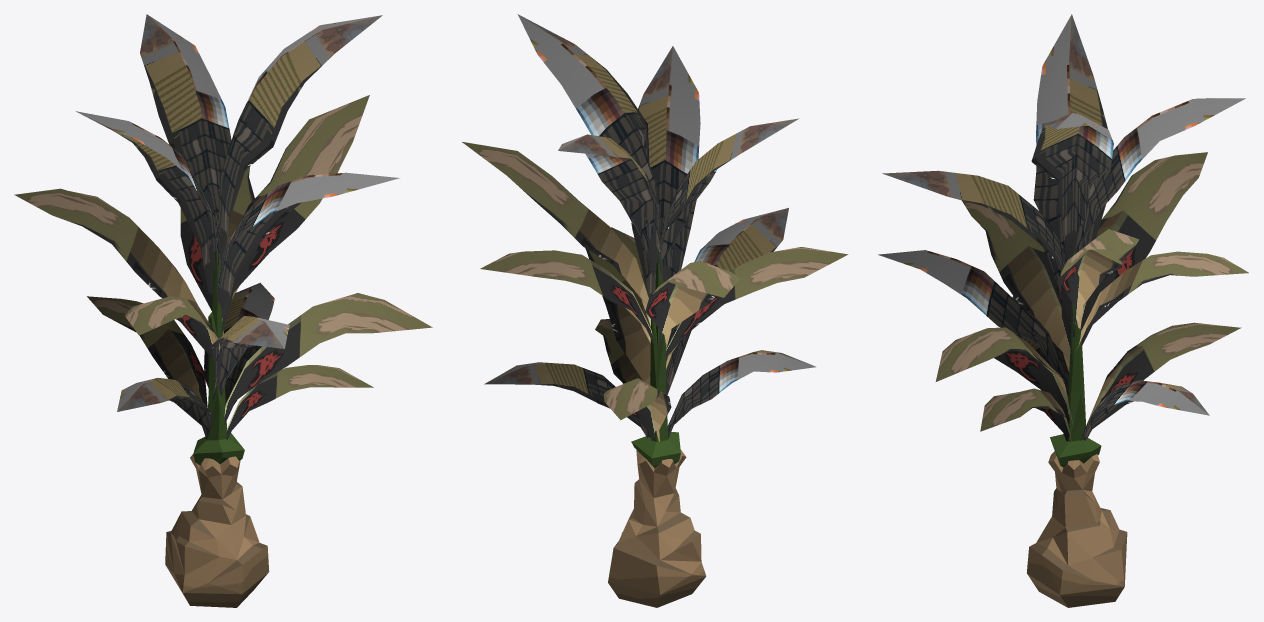
Rendered from jungle_SM_Env_Bush_Palm_01.gltf.
3 renders of one model, left to right at view 1: azimuth 30°, elevation 25°; view 2: azimuth 150°, elevation 25°; view 3: azimuth 270°, elevation 25°, orthographic. The views are drawn at different scales.
Visible parts, largest first — view 1: SM_Env_Bush_Palm_01_LOD0; view 2: SM_Env_Bush_Palm_01_LOD0; view 3: SM_Env_Bush_Palm_01_LOD0.
Boxes of the visible parts, bbox=[...] form: SM_Env_Bush_Palm_01_LOD0: bbox=[14, 14, 432, 607]; SM_Env_Bush_Palm_01_LOD0: bbox=[462, 14, 848, 607]; SM_Env_Bush_Palm_01_LOD0: bbox=[878, 14, 1248, 607].
Size of what is drawn, in the model's own units: 2.41 by 3.98 by 2.47.
1 material, 1 textured.
